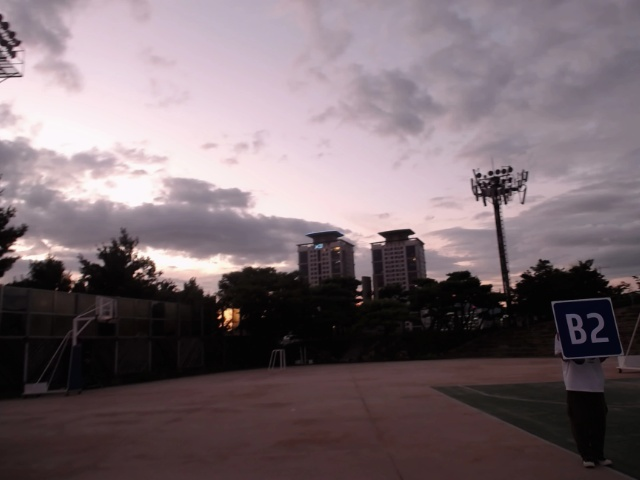delivery_b2: (549, 299, 625, 360)
